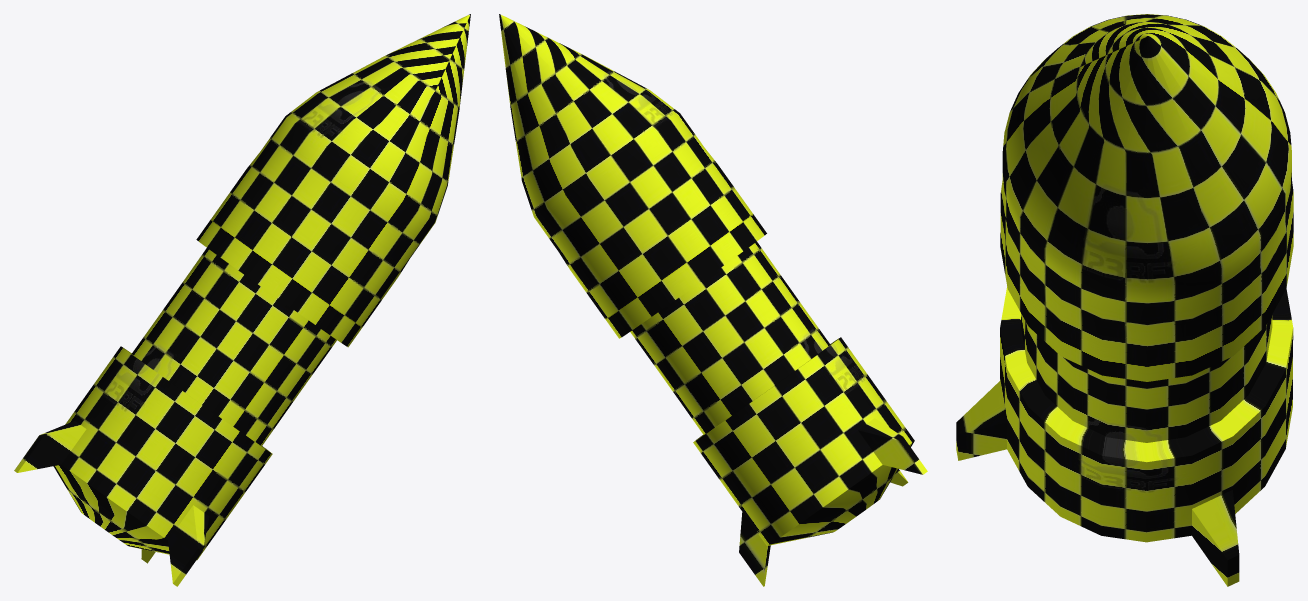
The model's file is Rocket2.obj.
3 renders of one model, left to right at view 1: azimuth 30°, elevation 25°; view 2: azimuth 150°, elevation 25°; view 3: azimuth 270°, elevation 25°, orthographic. The views are drawn at different scales.
Visible parts, largest first — view 1: pCylinder1; view 2: pCylinder1; view 3: pCylinder1.
Boxes of the visible parts, left/top/right/bottom form: pCylinder1: left=14, top=14, right=470, bottom=586; pCylinder1: left=499, top=14, right=927, bottom=586; pCylinder1: left=956, top=14, right=1293, bottom=586.
Size of the model in its own units: 21.56 by 22.86 by 8.98.
Materials: 1 (1 with a texture image).
